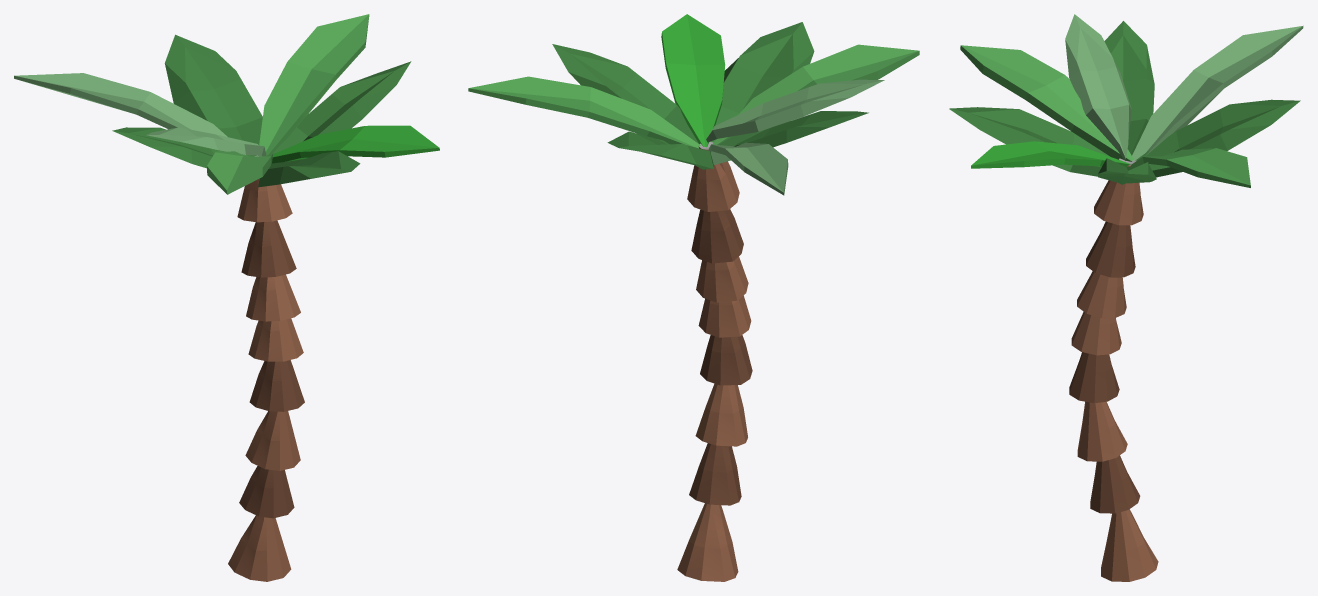
File: Palme.fbx
3 views of the same model, side by side, from view 1: azimuth 30°, elevation 25°; view 2: azimuth 150°, elevation 25°; view 3: azimuth 270°, elevation 25° (orthographic). The views are drawn at different scales.
Visible parts, largest first — view 1: pasted__pCube1 (×4), pasted__pasted__pCone1 (×4), pasted__pasted__pCube1 (×3), pCube1, pCone1, pasted__pasted__pasted__pCone1, pasted__pCone1, group23_pasted__group21_pasted__pasted__group17_pasted__past, pasted__pasted__pasted__pCube1; view 2: pasted__pCube1 (×4), pasted__pasted__pCube1 (×3), pasted__pasted__pCone1 (×4), pCube1, pasted__pasted__pasted__pCube1, pCone1, pasted__pCone1, pasted__pasted__pasted__pCone1, group23_pasted__group21_pasted__pasted__group17_pasted__past; view 3: pasted__pCube1 (×4), pasted__pasted__pCube1 (×3), pasted__pasted__pCone1 (×4), pasted__pasted__pasted__pCube1, pCone1, pCube1, pasted__pCone1, pasted__pasted__pasted__pCone1, group23_pasted__group21_pasted__pasted__group17_pasted__past.
Part boxes in pixels (bbox=[...]): pasted__pCube1 (×4): bbox=[14, 34, 439, 194]; pasted__pasted__pCone1 (×4): bbox=[245, 274, 304, 470]; pasted__pasted__pCube1 (×3): bbox=[112, 61, 411, 187]; pCube1: bbox=[259, 14, 369, 155]; pCone1: bbox=[228, 515, 291, 581]; pasted__pasted__pasted__pCone1: bbox=[241, 220, 296, 277]; pasted__pCone1: bbox=[239, 466, 294, 518]; group23_pasted__group21_pasted__pasted__group17_pasted__past: bbox=[237, 155, 292, 222]; pasted__pasted__pasted__pCube1: bbox=[146, 127, 266, 156]; pasted__pCube1 (×4): bbox=[607, 14, 919, 195]; pasted__pasted__pCube1 (×3): bbox=[552, 22, 868, 147]; pasted__pasted__pCone1 (×4): bbox=[695, 256, 752, 446]; pCube1: bbox=[468, 76, 700, 148]; pasted__pasted__pasted__pCube1: bbox=[706, 79, 884, 142]; pCone1: bbox=[677, 503, 738, 581]; pasted__pCone1: bbox=[689, 443, 741, 505]; pasted__pasted__pasted__pCone1: bbox=[691, 209, 743, 263]; group23_pasted__group21_pasted__pasted__group17_pasted__past: bbox=[687, 141, 739, 211]; pasted__pCube1 (×4): bbox=[960, 25, 1303, 177]; pasted__pasted__pCube1 (×3): bbox=[949, 21, 1156, 184]; pasted__pasted__pCone1 (×4): bbox=[1069, 271, 1127, 461]; pasted__pasted__pasted__pCube1: bbox=[1065, 14, 1131, 160]; pCone1: bbox=[1101, 509, 1158, 581]; pCube1: bbox=[1131, 148, 1250, 187]; pasted__pCone1: bbox=[1090, 455, 1140, 513]; pasted__pasted__pasted__pCone1: bbox=[1086, 221, 1135, 277]; group23_pasted__group21_pasted__pasted__group17_pasted__past: bbox=[1094, 158, 1143, 225].
Bounding box in the file's own units: 4.71 × 6.69 × 4.4.
